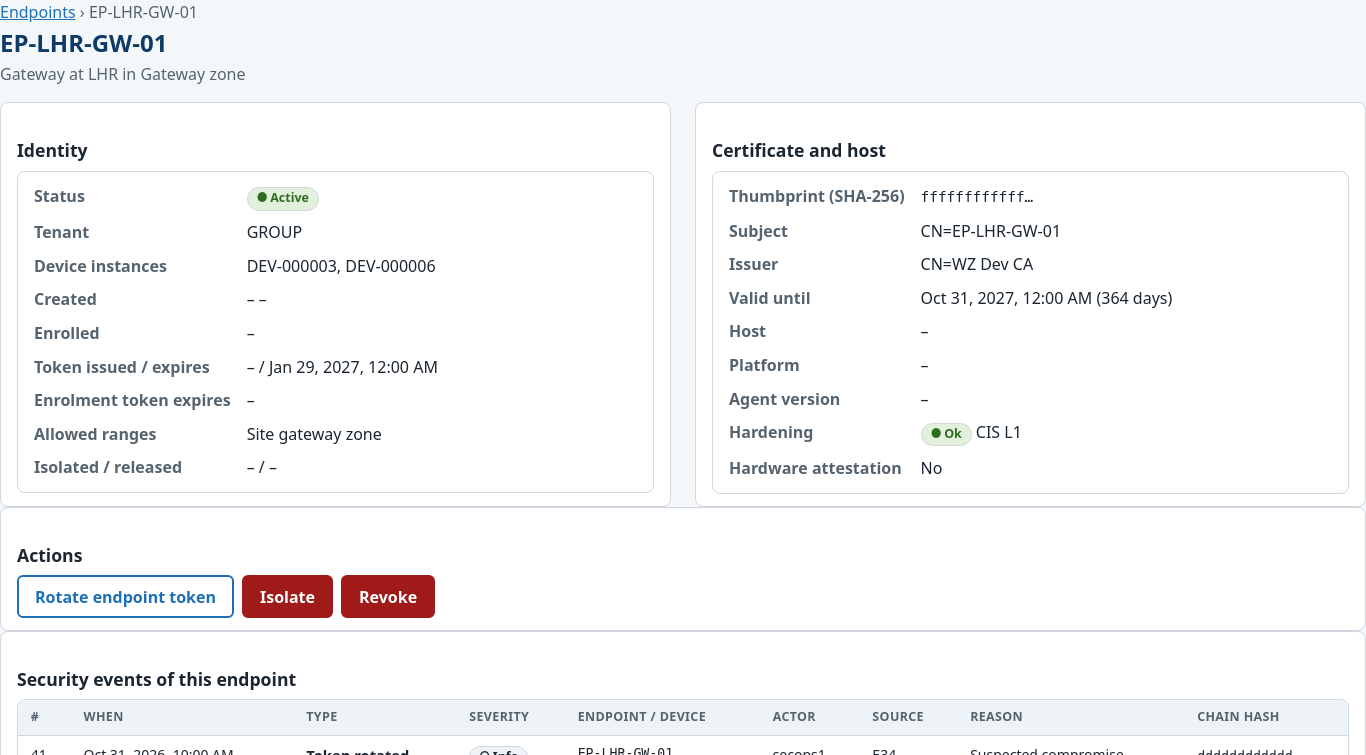
Test case: endpoints › detail: rotate token shows the new token with grace; isolate needs a reason
Expected: the text "CN=WZ Dev CA" is shown, [921, 253, 1033, 275]
Click the button "Rotate endpoint token" at (126, 597), box [17, 575, 234, 618]
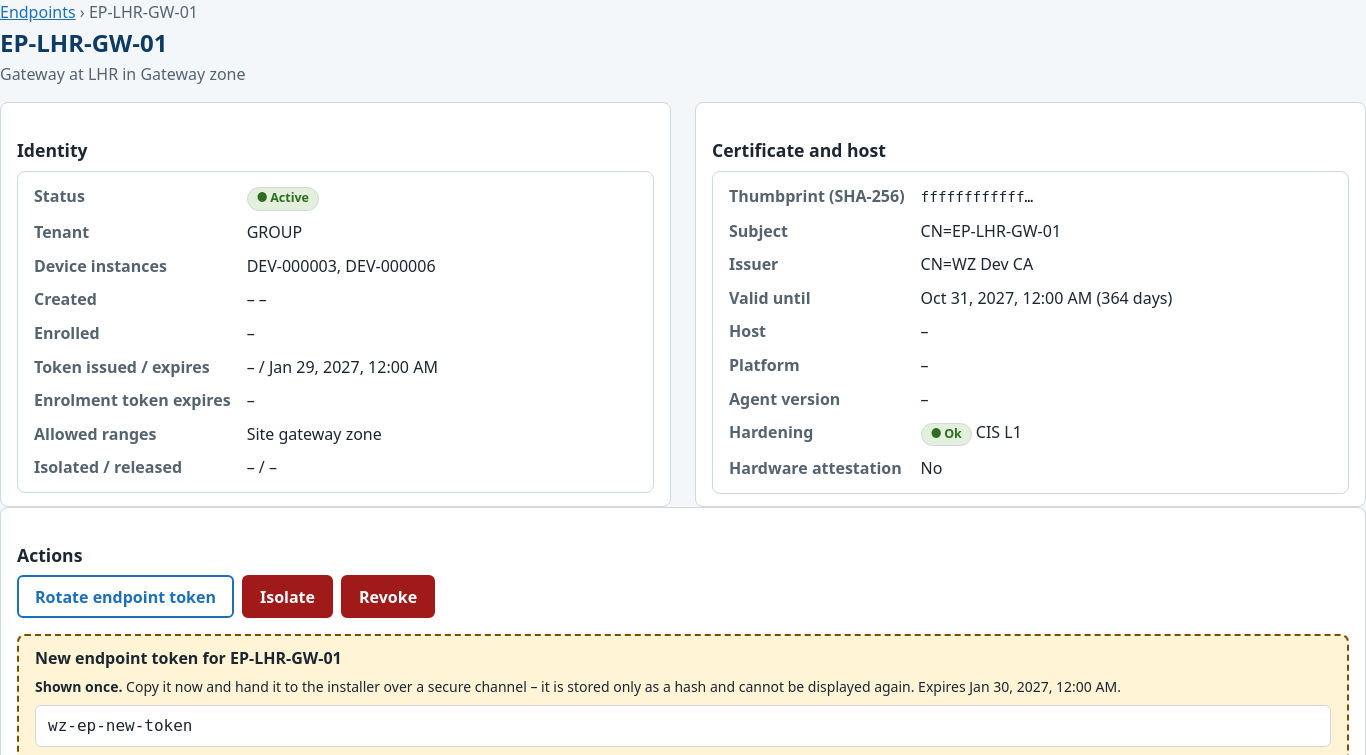
Expected: the text "wz-ep-new-token" is shown, [35, 705, 1331, 747]
Click the button "Isolate" at (288, 597), box [242, 575, 333, 618]
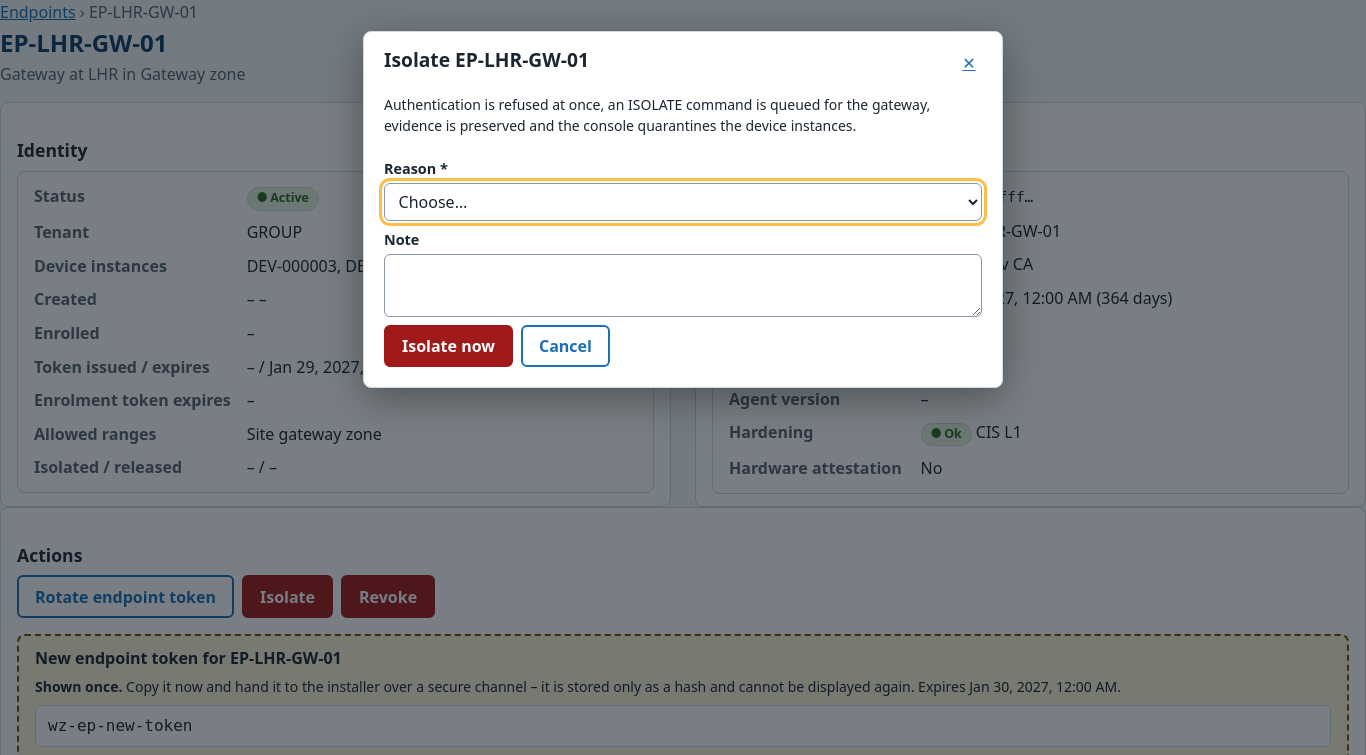
Click the button "Isolate now" at (448, 346), box [384, 325, 513, 367]
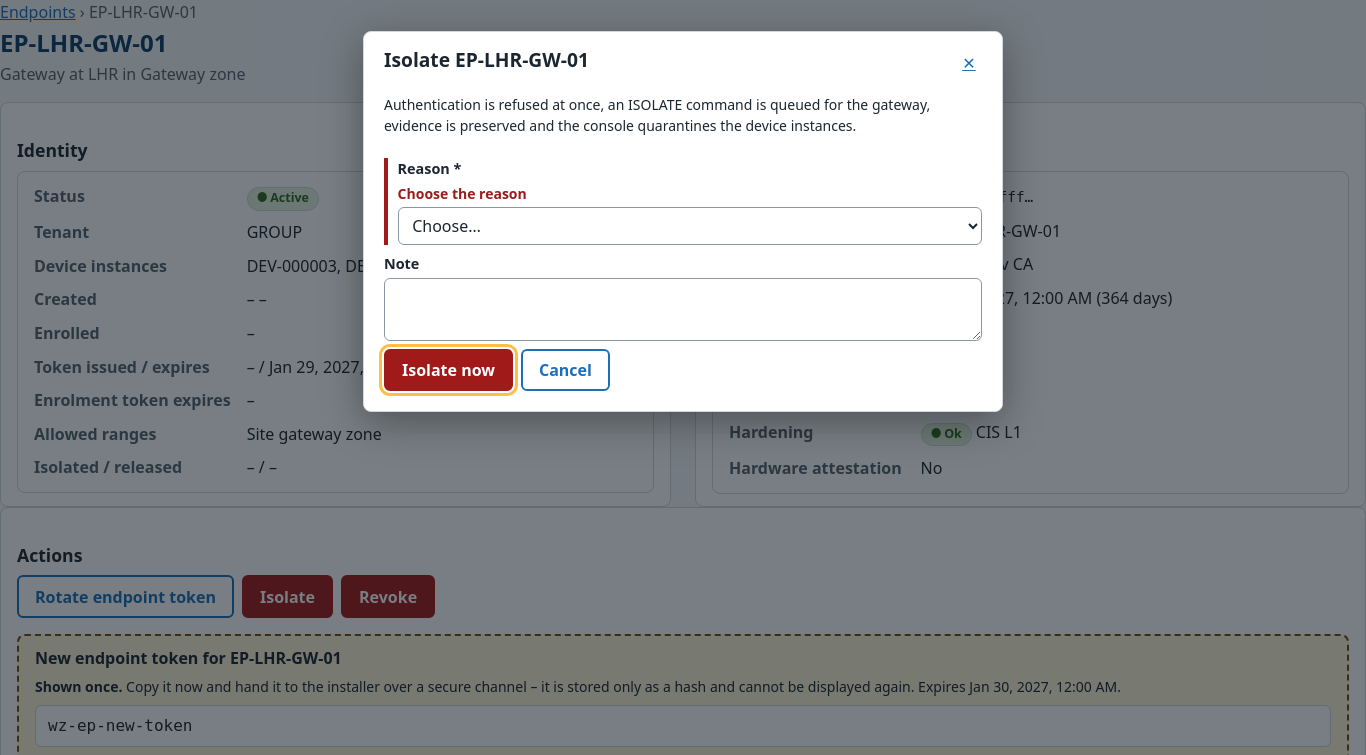
Expected: the text "Choose the reason" is shown, [397, 182, 527, 202]
Select "Suspected compromise" in the dropdown labelled "Reason *" at (690, 226), box [398, 207, 982, 246]
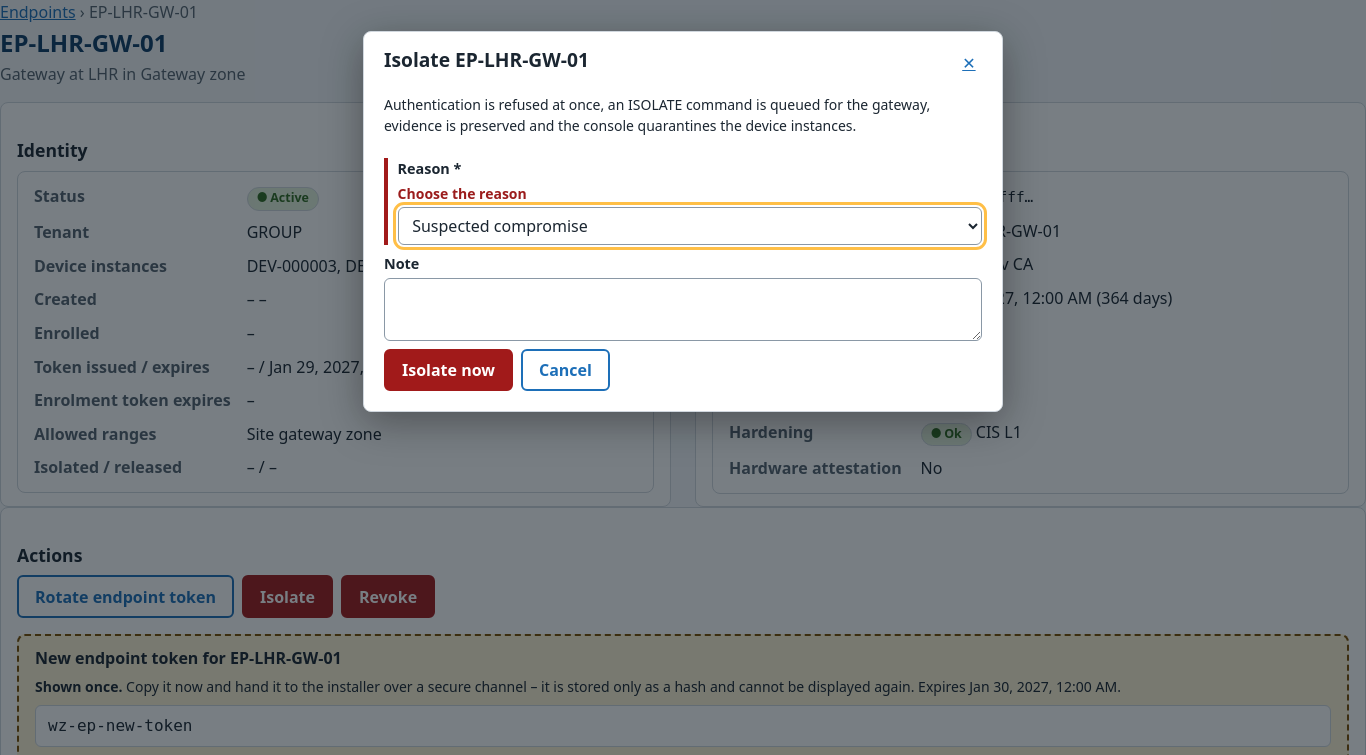
Click the button "Isolate now" at (448, 370), box [384, 349, 513, 392]
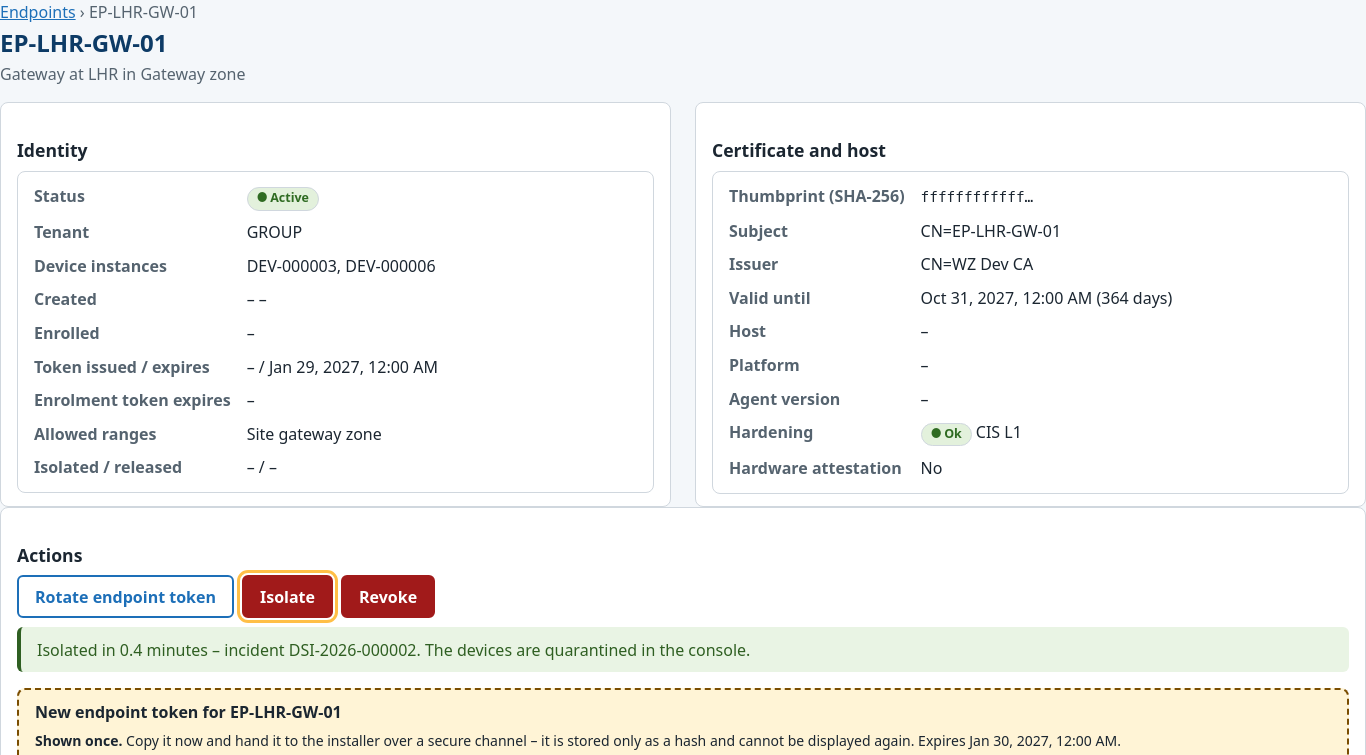
Expected: the text "Isolated in 0.4 minutes – incident DSI-2026-000002" is shown, [37, 639, 750, 661]
